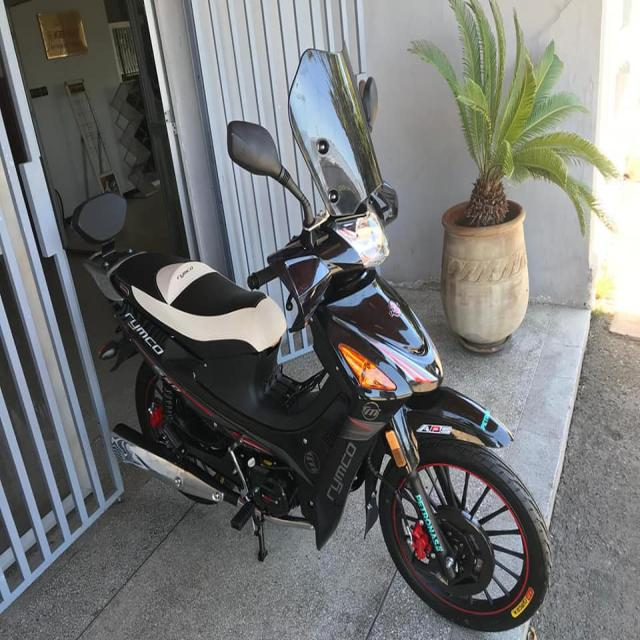Motorcycle: (73, 49, 551, 631)
Tree: (410, 0, 617, 352)
